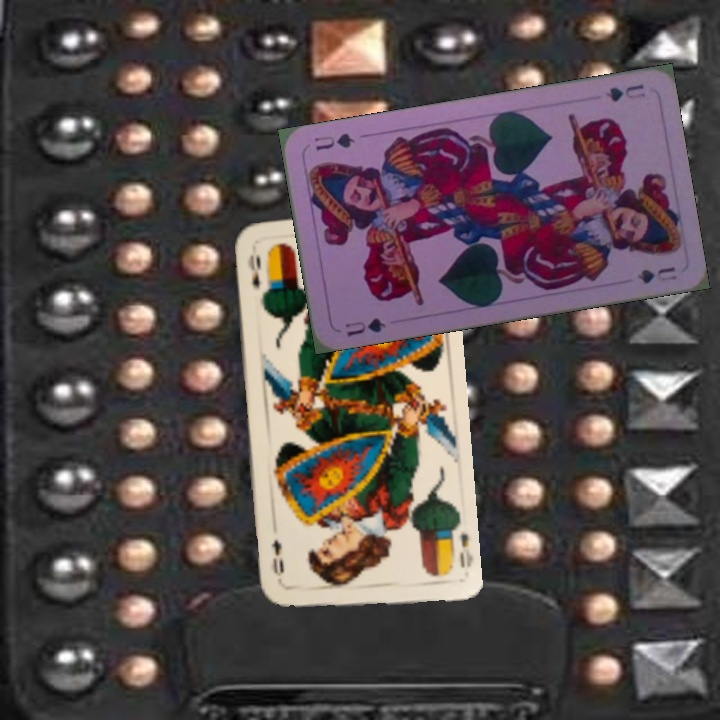EO: (243, 250, 264, 291), (455, 529, 475, 571)
GU: (341, 313, 389, 339), (602, 80, 648, 104)
